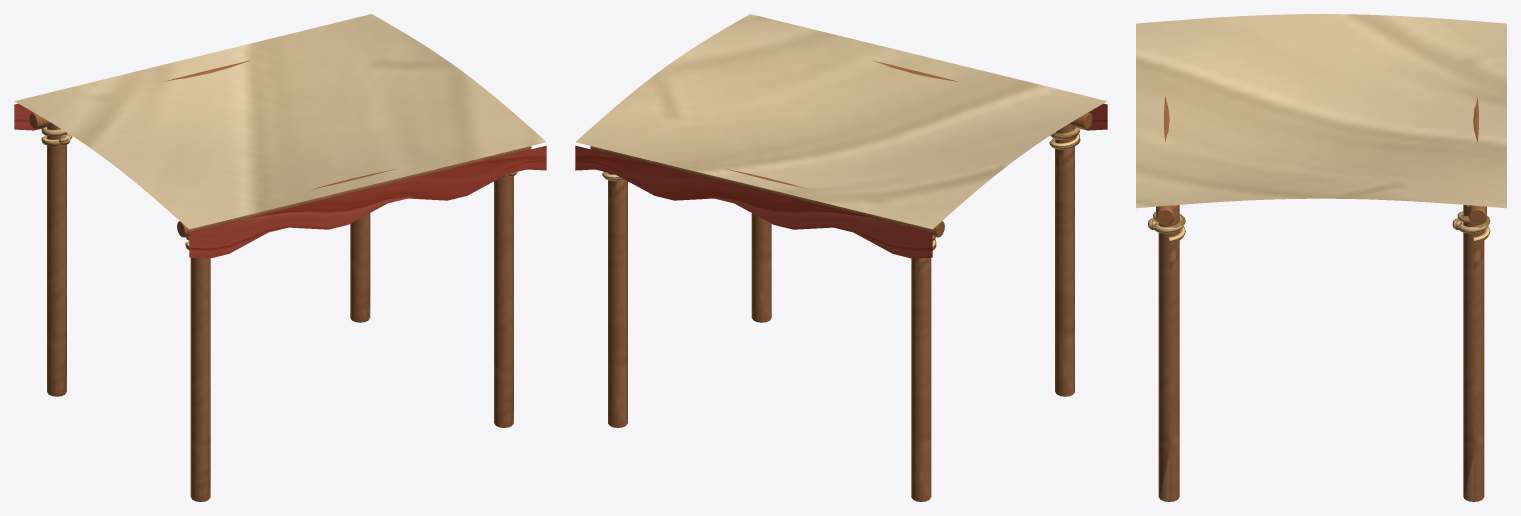
File: SM_RestCanopy.glb
3 views of the same model, side by side, from view 1: azimuth 30°, elevation 25°; view 2: azimuth 150°, elevation 25°; view 3: azimuth 270°, elevation 25° (orthographic). The views are drawn at different scales.
Visible parts, largest first — view 1: SM_RestCanopy; view 2: SM_RestCanopy; view 3: SM_RestCanopy.
Part boxes in pixels (box(x1,y1,x2,y2)): SM_RestCanopy: box(14, 14, 546, 501); SM_RestCanopy: box(575, 14, 1107, 501); SM_RestCanopy: box(1136, 14, 1506, 501).
Bounding box in the file's own units: 3.3 × 2.61 × 2.8.
1 material, 1 textured.
